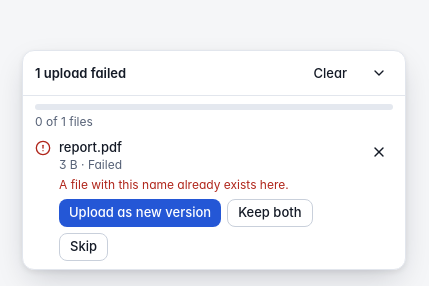
Scenario: UploadPanel › name_conflict: explains and offers rename-and-upload
Expected: the text "A file with this name already exists here." is shown, top-left (59, 177), bottom-right (289, 192)
Click the button "Keep both".
click(270, 213)  # box top-left (227, 199), bottom-right (312, 227)
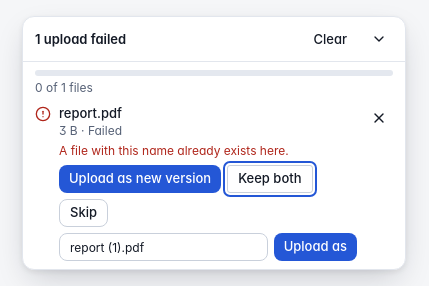
Expected: the field named "New file name" holds "report (1).pdf", top-left (59, 233), bottom-right (268, 261)
Click the button "Upload as".
click(315, 247)  # box top-left (274, 233), bottom-right (357, 261)
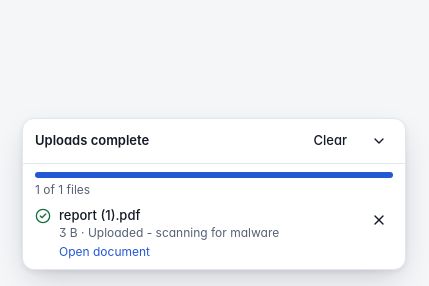
Expected: the text "report (1).pdf" is shown, top-left (59, 207), bottom-right (140, 223)
